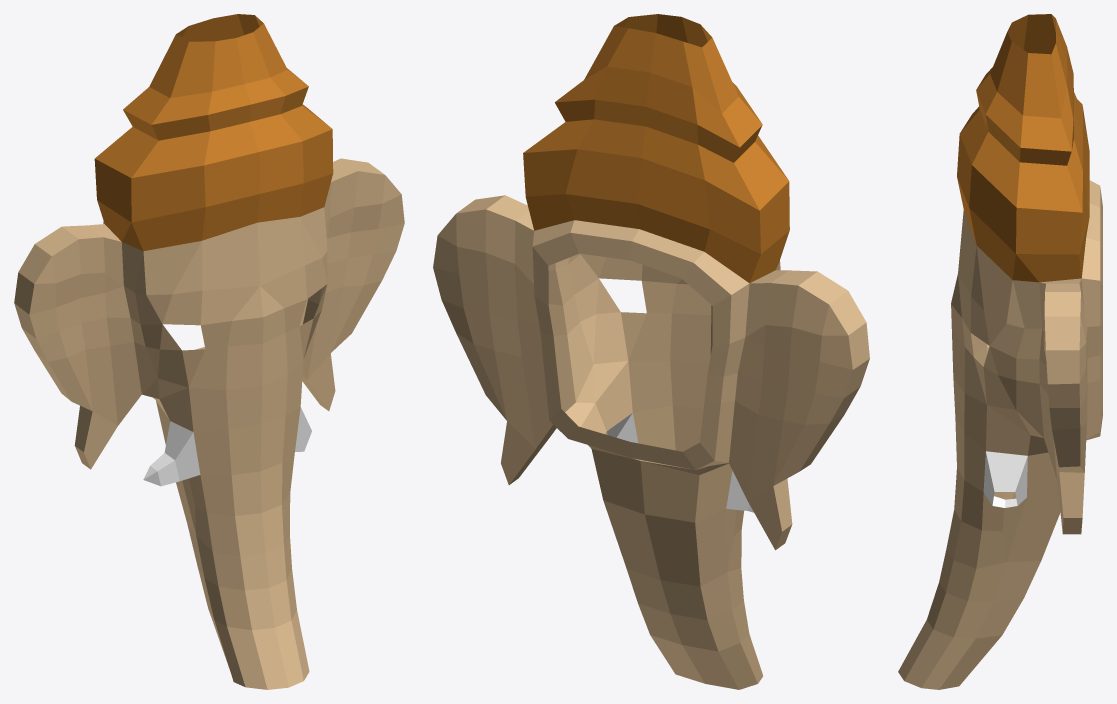
Rendered from elephant_3c2e193d.glb.
3 renders of one model, left to right at view 1: azimuth 30°, elevation 25°; view 2: azimuth 150°, elevation 25°; view 3: azimuth 270°, elevation 25°, orthographic. The views are drawn at different scales.
Visible parts, largest first — view 1: Cube; view 2: Cube; view 3: Cube.
Boxes of the visible parts, x1,y1,x2,y2 form: Cube: [14, 14, 404, 689]; Cube: [433, 14, 869, 689]; Cube: [898, 14, 1102, 689].
Bounding box in the file's own units: 5.76 × 9 × 2.6.
